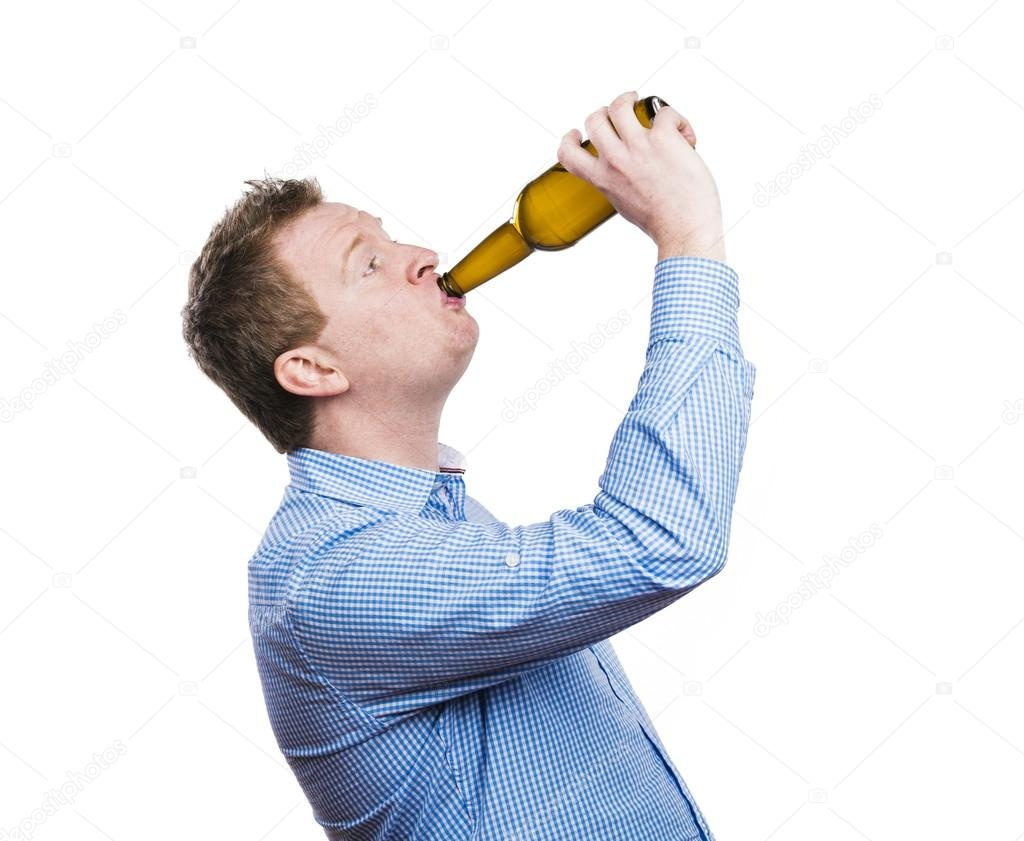beerBottle: (419, 94, 689, 310)
